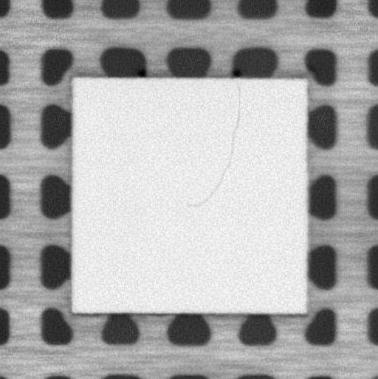DIE_CRACK: (188, 84, 242, 209)
